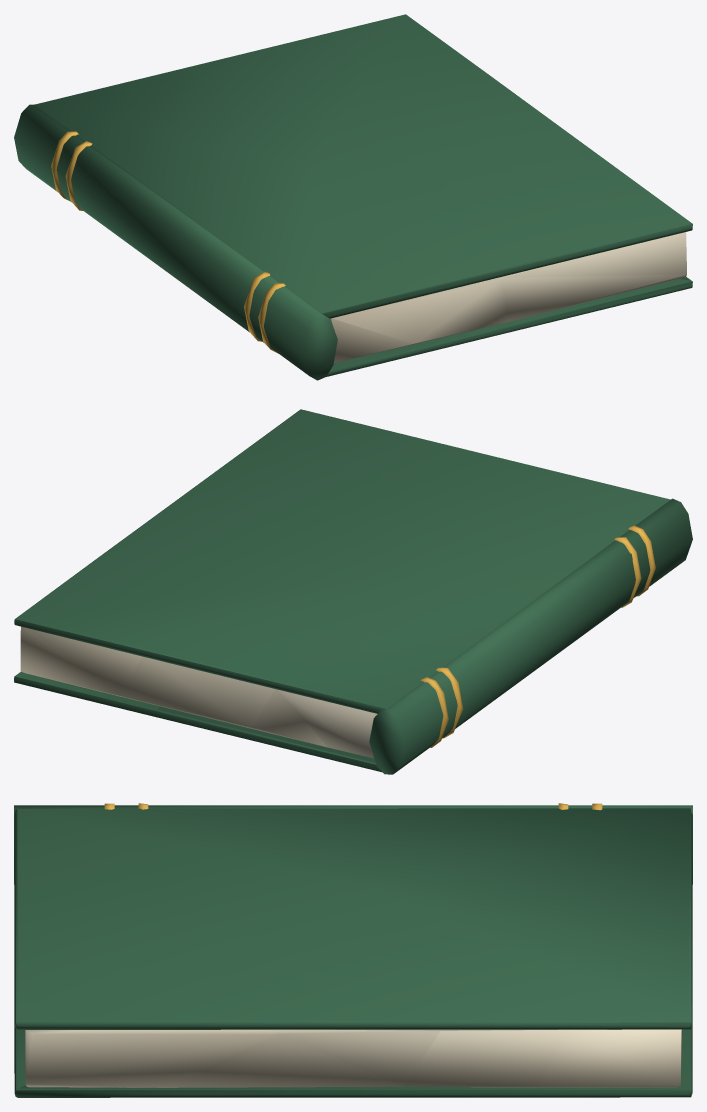
File: frost_book_green_lod2.glb
The picture shows the model from 3 angles, top to bottom: view 1: azimuth 30°, elevation 25°; view 2: azimuth 150°, elevation 25°; view 3: azimuth 270°, elevation 25°; orthographic projection. The views are drawn at different scales.
Parts seen in each view (by area): view 1: frost_book_green.001; view 2: frost_book_green.001; view 3: frost_book_green.001.
Boxes of the visible parts, <box> form: frost_book_green.001: <box>14,14,692,380</box>; frost_book_green.001: <box>14,409,692,774</box>; frost_book_green.001: <box>14,803,692,1097</box>.
Bounding box in the file's own units: 18.99 × 3.13 × 24.05.
